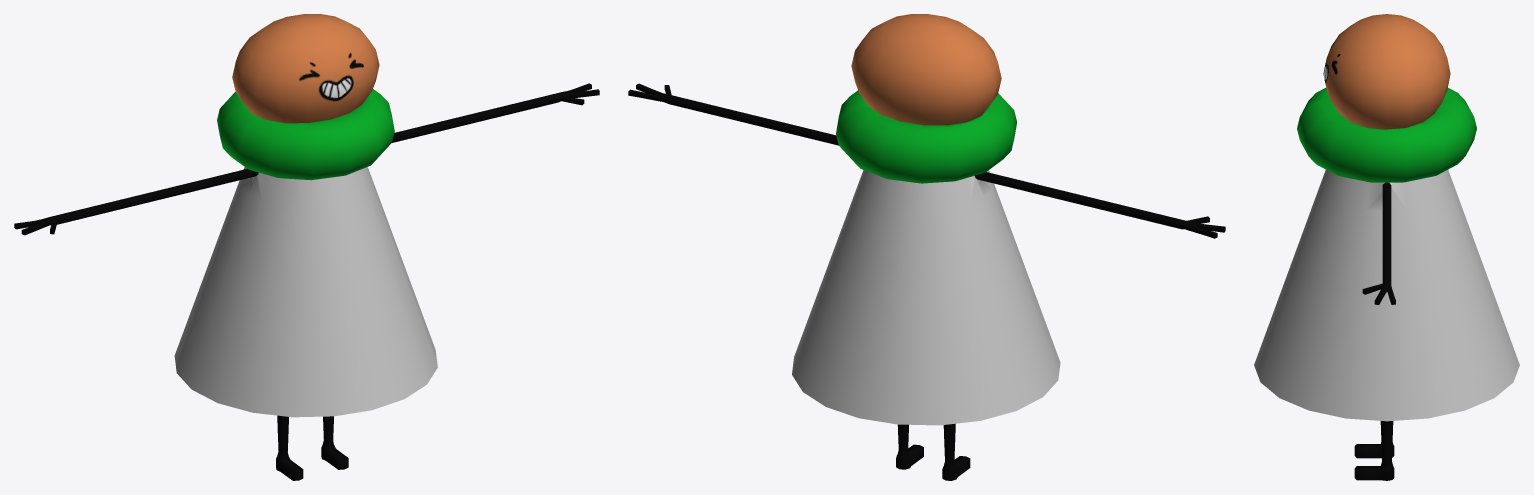
Rendered from MSH_Napkin_Placeholder.fbx.
The picture shows the model from 3 angles, left to right: view 1: azimuth 30°, elevation 25°; view 2: azimuth 150°, elevation 25°; view 3: azimuth 270°, elevation 25°; orthographic projection. The views are drawn at different scales.
Parts seen in each view (by area): view 1: napkin; view 2: napkin; view 3: napkin.
Boxes of the visible parts, <box> form: napkin: <box>14,14,599,480</box>; napkin: <box>628,14,1225,480</box>; napkin: <box>1254,14,1519,480</box>.
Bounding box in the file's own units: 2.69 × 1.97 × 1.07.
